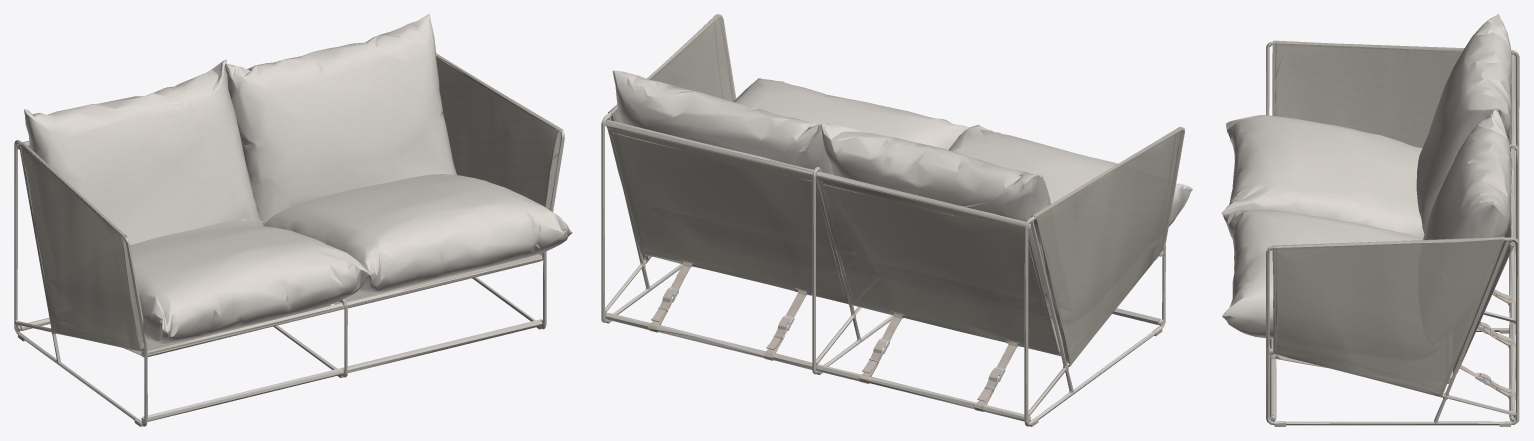
File: havsten_sofa_2_osobowa_na_zewnatrz_49495066.glb
3 renders of one model, left to right at view 1: azimuth 30°, elevation 25°; view 2: azimuth 150°, elevation 25°; view 3: azimuth 270°, elevation 25°, orthographic. The views are drawn at different scales.
Parts seen in each view (by area): view 1: havsten_sofa_2_osobowa_na_zewnatrz_49495066; view 2: havsten_sofa_2_osobowa_na_zewnatrz_49495066; view 3: havsten_sofa_2_osobowa_na_zewnatrz_49495066.
Boxes of the visible parts, box(x1,y1,x2,y2) form: havsten_sofa_2_osobowa_na_zewnatrz_49495066: box(14, 14, 572, 426); havsten_sofa_2_osobowa_na_zewnatrz_49495066: box(601, 14, 1192, 426); havsten_sofa_2_osobowa_na_zewnatrz_49495066: box(1221, 14, 1519, 426).
Bounding box in the file's own units: 1.78 × 0.8979 × 1.08.
2 materials, 2 textured.
